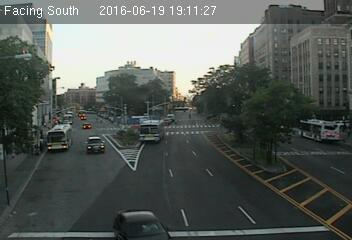neg: (48, 176, 69, 204), (308, 86, 325, 109), (151, 181, 167, 203), (166, 132, 182, 153), (198, 64, 214, 85), (239, 173, 255, 193), (100, 141, 115, 161), (294, 170, 309, 190), (77, 124, 92, 143), (275, 69, 289, 89), (93, 63, 107, 82), (207, 131, 220, 149), (243, 132, 256, 150), (253, 90, 266, 107), (144, 68, 157, 85), (42, 110, 55, 127), (33, 151, 46, 168), (262, 161, 275, 178), (139, 123, 151, 139), (94, 186, 106, 202), (190, 186, 202, 202), (314, 134, 326, 150), (303, 51, 315, 67), (265, 38, 276, 54), (53, 80, 63, 94)
